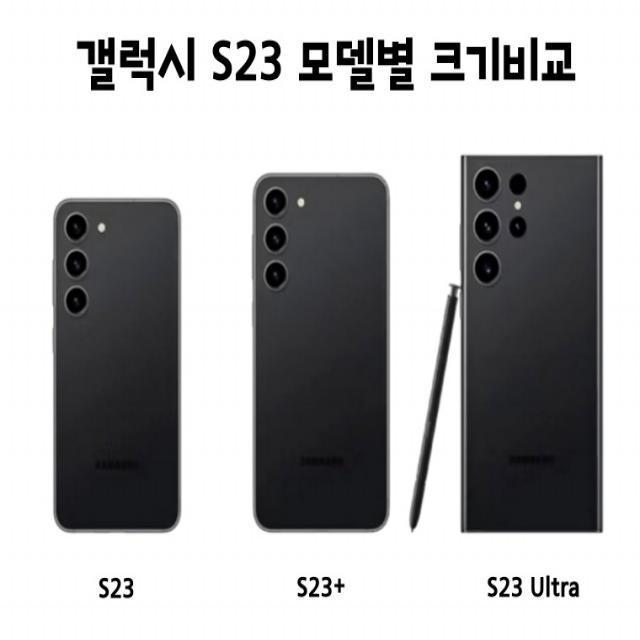phone: (460, 154, 600, 528), (255, 172, 389, 534), (54, 197, 181, 532)
